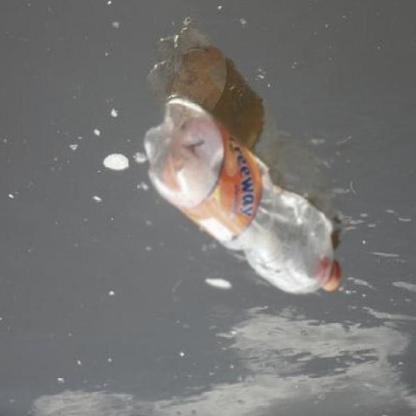plastic bottle: (143, 100, 342, 296)
